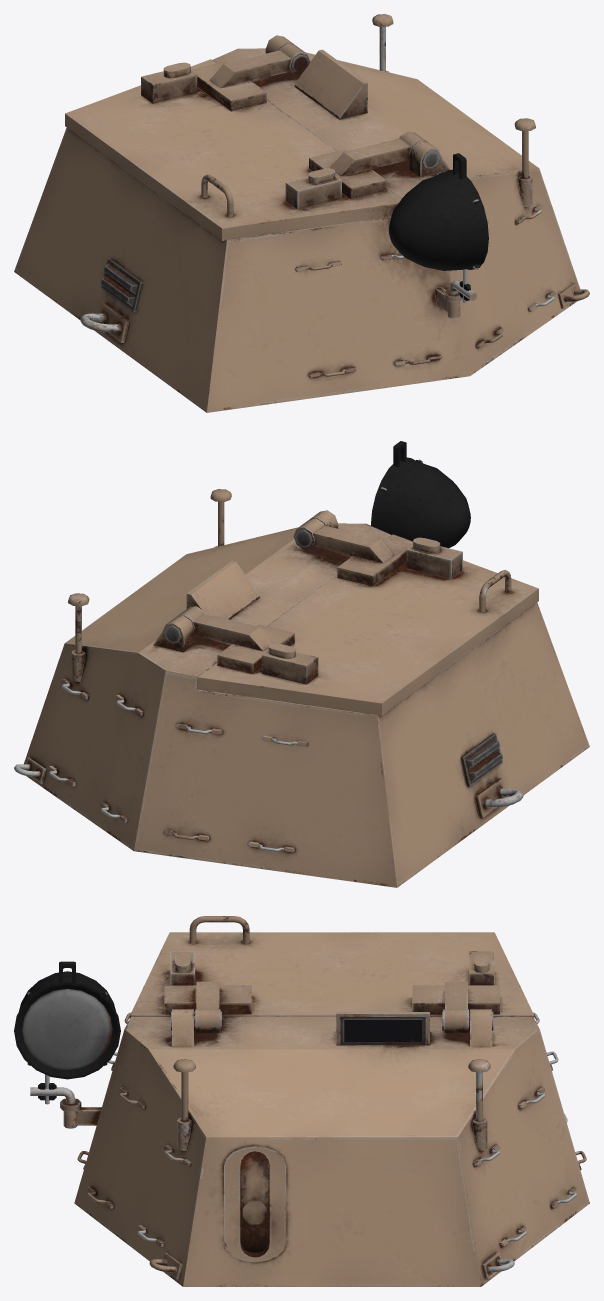
The model's file is Turret.gltf.
The picture shows the model from 3 angles, top to bottom: view 1: azimuth 30°, elevation 25°; view 2: azimuth 150°, elevation 25°; view 3: azimuth 270°, elevation 25°; orthographic projection. The views are drawn at different scales.
Parts seen in each view (by area): view 1: defaultMaterial.626, defaultMaterial.636, defaultMaterial.653, defaultMaterial.573, defaultMaterial.632, defaultMaterial.635, defaultMaterial.661, defaultMaterial.660, defaultMaterial.659, defaultMaterial.630, defaultMaterial.004, defaultMaterial.575 (+3 smaller); view 2: defaultMaterial.626, defaultMaterial.636, defaultMaterial.653, defaultMaterial.573, defaultMaterial.635, defaultMaterial.632, defaultMaterial.660, defaultMaterial.661, defaultMaterial.630, defaultMaterial.659, defaultMaterial.004, defaultMaterial.575 (+2 smaller); view 3: defaultMaterial.626, defaultMaterial.636, defaultMaterial.653, defaultMaterial.664, defaultMaterial.665, defaultMaterial.572, defaultMaterial.660, defaultMaterial.661, defaultMaterial.639, defaultMaterial.640, defaultMaterial.628, defaultMaterial.634 (+10 smaller).
Part boxes in pixels (x1,y1,x2,y2): defaultMaterial.626: [14, 48, 579, 412]; defaultMaterial.636: [65, 59, 401, 240]; defaultMaterial.653: [389, 169, 488, 270]; defaultMaterial.573: [294, 49, 367, 119]; defaultMaterial.632: [209, 50, 290, 88]; defaultMaterial.635: [330, 138, 411, 176]; defaultMaterial.661: [191, 61, 266, 111]; defaultMaterial.660: [309, 149, 386, 199]; defaultMaterial.659: [285, 176, 341, 209]; defaultMaterial.630: [141, 70, 197, 103]; defaultMaterial.004: [101, 258, 143, 311]; defaultMaterial.575: [80, 303, 129, 342]; defaultMaterial.626: [24, 523, 589, 887]; defaultMaterial.636: [197, 534, 538, 715]; defaultMaterial.653: [371, 457, 470, 548]; defaultMaterial.573: [186, 560, 259, 619]; defaultMaterial.635: [313, 525, 394, 563]; defaultMaterial.632: [192, 613, 273, 651]; defaultMaterial.660: [337, 536, 412, 586]; defaultMaterial.661: [217, 624, 294, 674]; defaultMaterial.630: [262, 651, 318, 684]; defaultMaterial.659: [406, 545, 462, 578]; defaultMaterial.004: [460, 733, 502, 786]; defaultMaterial.575: [474, 778, 523, 817]; defaultMaterial.626: [74, 1016, 589, 1286]; defaultMaterial.636: [129, 932, 534, 1018]; defaultMaterial.653: [14, 971, 120, 1079]; defaultMaterial.664: [224, 1146, 285, 1262]; defaultMaterial.665: [240, 1151, 269, 1252]; defaultMaterial.572: [340, 1017, 425, 1045]; defaultMaterial.660: [164, 985, 251, 1014]; defaultMaterial.661: [412, 985, 499, 1014]; defaultMaterial.639: [173, 1059, 195, 1150]; defaultMaterial.640: [468, 1059, 490, 1150]; defaultMaterial.628: [172, 1009, 193, 1047]; defaultMaterial.634: [470, 1009, 491, 1047].
Size of the model in its own units: 0.9567 by 0.482 by 1.08.
1 material, 1 textured.
